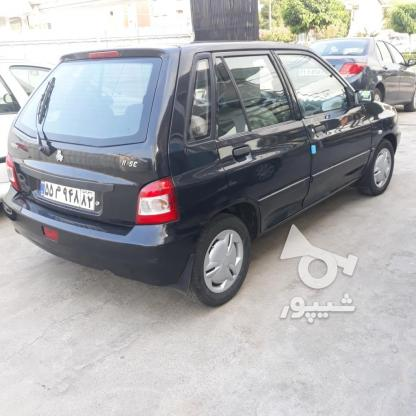car: (39, 179, 94, 211)
